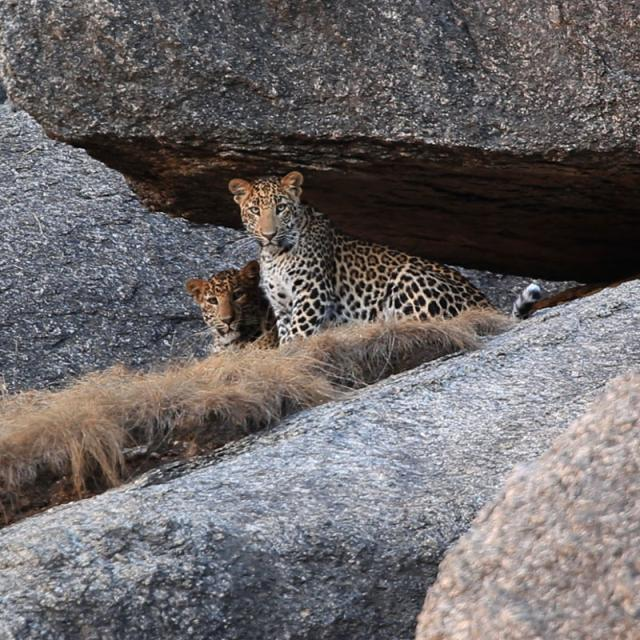Leopard: (225, 175, 498, 332), (186, 269, 291, 353)
